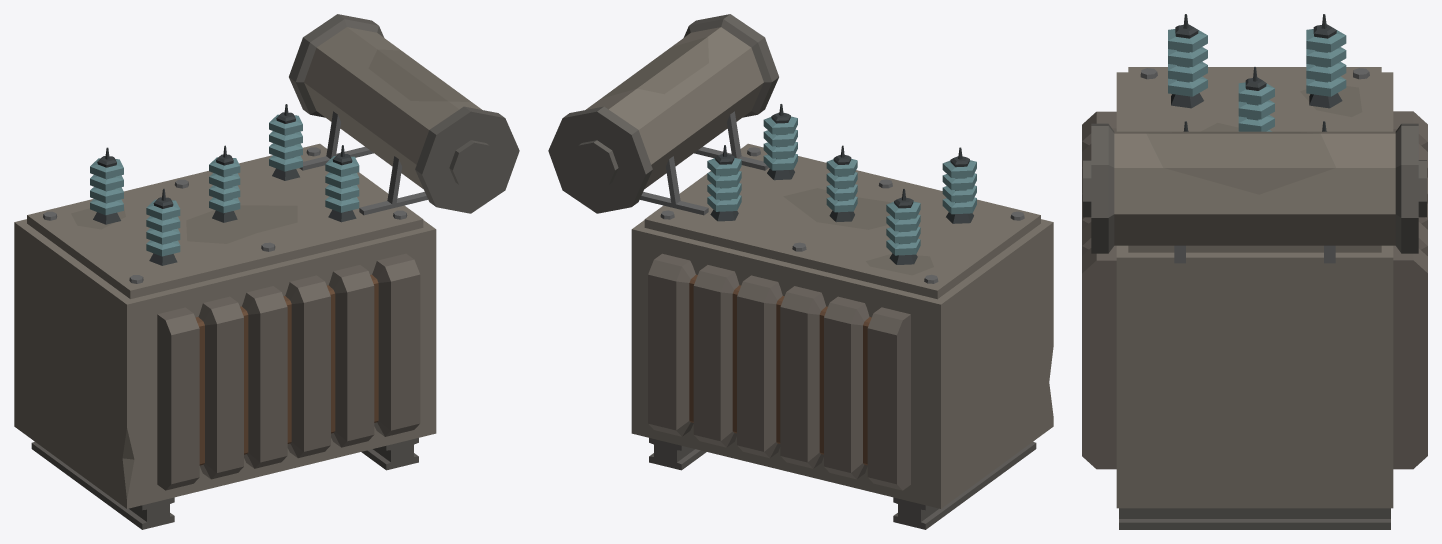
File: SM_Props_Industrial_Equipment_04.fbx
The picture shows the model from 3 angles, left to right: view 1: azimuth 30°, elevation 25°; view 2: azimuth 150°, elevation 25°; view 3: azimuth 270°, elevation 25°; orthographic projection. The views are drawn at different scales.
Parts seen in each view (by area): view 1: SM_Props_Industrial_Equipment_04; view 2: SM_Props_Industrial_Equipment_04; view 3: SM_Props_Industrial_Equipment_04.
Part boxes in pixels (x1,y1,x2,y2): SM_Props_Industrial_Equipment_04: (14,14,519,529); SM_Props_Industrial_Equipment_04: (548,14,1053,529); SM_Props_Industrial_Equipment_04: (1082,14,1427,529).
Bounding box in the file's own units: 470 × 410 × 300.
